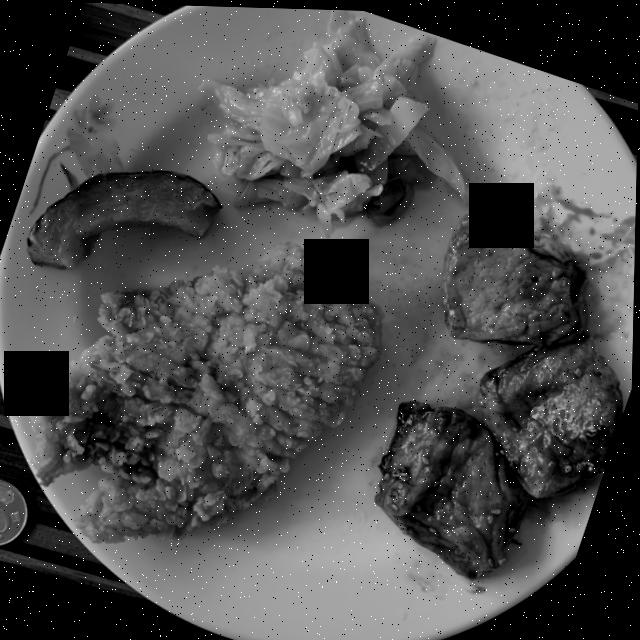cabbage: (200, 8, 480, 233)
coin: (0, 478, 31, 544)
creamy tofu: (377, 210, 625, 575)
fried chicken cutlet: (31, 240, 384, 541)
pumpkin: (28, 168, 222, 268)
